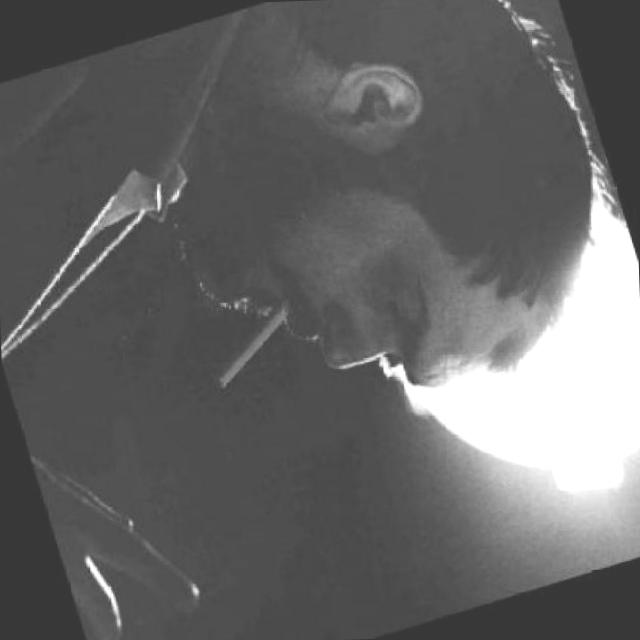cigarette: (188, 290, 310, 393)
